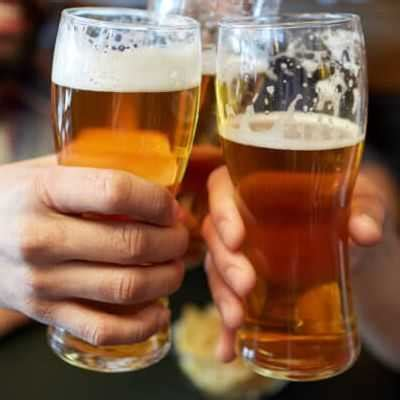alcohol: (212, 16, 370, 380), (49, 9, 202, 372), (146, 1, 263, 266)
